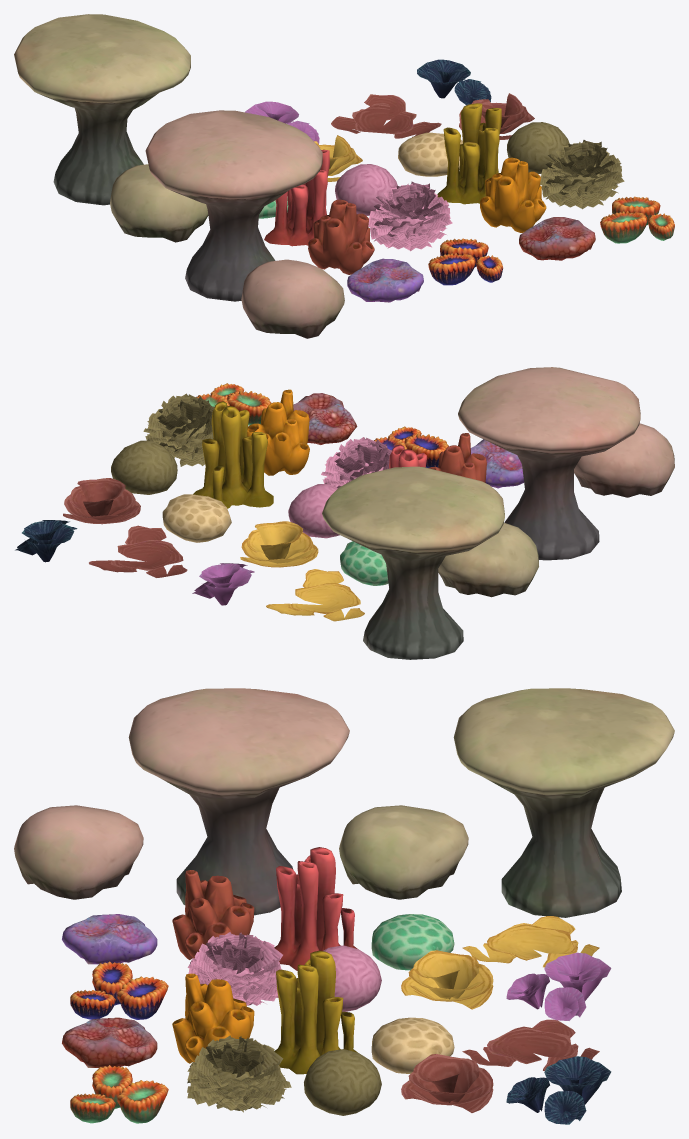
File: soft_coral_set.glb
3 renders of one model, top to bottom at view 1: azimuth 30°, elevation 25°; view 2: azimuth 150°, elevation 25°; view 3: azimuth 270°, elevation 25°, orthographic. The views are drawn at different scales.
Visible parts, largest first — view 1: Coral02_low, Coral02_low1, Coral01_low, Coral01_low1, coral11, coral14, coral23, coral10, coral19, coral25, coral17, coral20 (+10 smaller); view 2: Coral02_low1, Coral02_low, coral11, Coral01_low, Coral01_low1, coral14, coral10, coral15, coral28, coral16, coral24, coral17 (+12 smaller); view 3: Coral02_low1, Coral02_low, Coral01_low, Coral01_low1, coral11, coral25, coral14, coral23, coral19, coral10, coral18, coral21 (+12 smaller).
Boxes of the visible parts, x1=… form: Coral02_low: x1=145, y1=110, x2=322, y2=301; Coral02_low1: x1=14, y1=14, x2=190, y2=205; Coral01_low: x1=241, y1=259, x2=344, y2=338; Coral01_low1: x1=110, y1=164, x2=208, y2=242; coral11: x1=437, y1=103, x2=501, y2=204; coral14: x1=540, y1=140, x2=624, y2=209; coral23: x1=368, y1=181, x2=452, y2=251; coral10: x1=480, y1=157, x2=546, y2=232; coral19: x1=308, y1=199, x2=374, y2=274; coral25: x1=264, y1=149, x2=329, y2=246; coral17: x1=331, y1=94, x2=441, y2=138; coral20: x1=347, y1=258, x2=423, y2=302; Coral02_low1: x1=322, y1=466, x2=504, y2=659; Coral02_low: x1=458, y1=367, x2=640, y2=560; coral11: x1=193, y1=401, x2=273, y2=508; Coral01_low: x1=574, y1=423, x2=674, y2=497; Coral01_low1: x1=438, y1=523, x2=538, y2=597; coral14: x1=143, y1=393, x2=214, y2=466; coral10: x1=247, y1=389, x2=309, y2=475; coral15: x1=111, y1=440, x2=177, y2=494; coral28: x1=240, y1=521, x2=318, y2=567; coral16: x1=63, y1=478, x2=140, y2=524; coral24: x1=266, y1=569, x2=364, y2=621; coral17: x1=89, y1=525, x2=187, y2=577; Coral02_low1: x1=453, y1=688, x2=674, y2=917; Coral02_low: x1=128, y1=688, x2=349, y2=915; Coral01_low: x1=14, y1=805, x2=143, y2=899; Coral01_low1: x1=339, y1=805, x2=468, y2=899; coral11: x1=274, y1=950, x2=357, y2=1074; coral25: x1=274, y1=847, x2=357, y2=970; coral14: x1=187, y1=1035, x2=291, y2=1112; coral23: x1=187, y1=932, x2=282, y2=1005; coral19: x1=172, y1=870, x2=254, y2=959; coral10: x1=172, y1=973, x2=254, y2=1063; coral18: x1=506, y1=1056, x2=611, y2=1124; coral21: x1=506, y1=952, x2=611, y2=1020.
Size of the model in its own units: 0.2587 by 0.0827 by 0.259.
4 materials, 4 textured.
